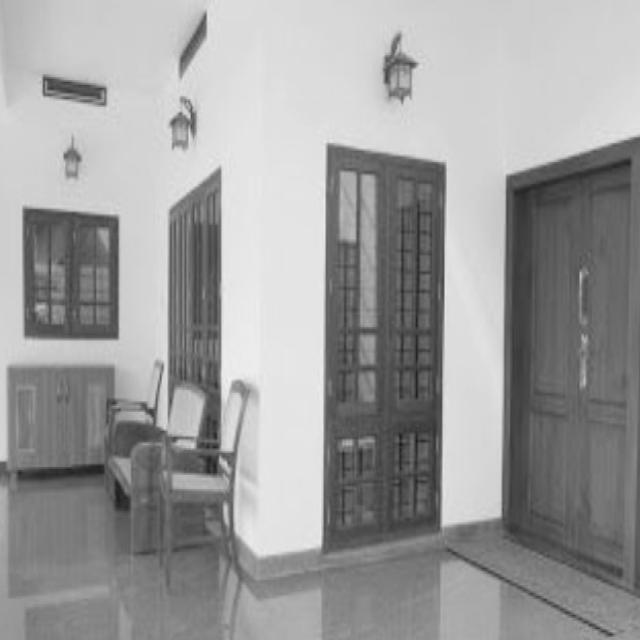Non_Damaged: (4, 0, 640, 635)
